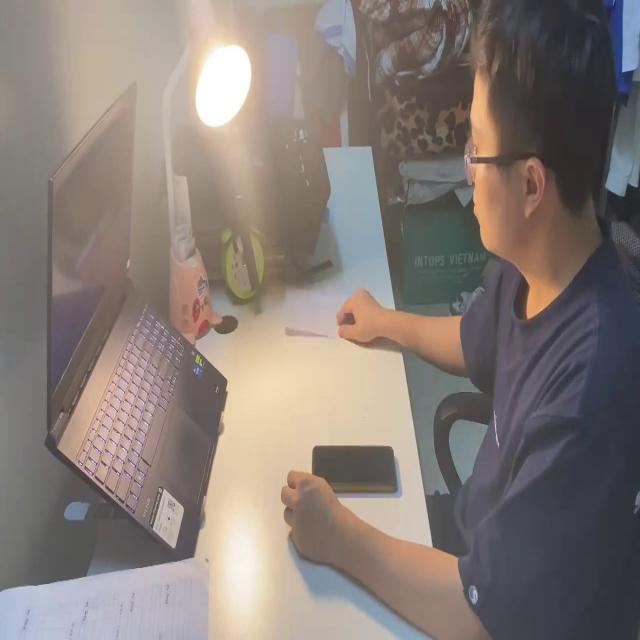book: (5, 557, 212, 640), (286, 280, 358, 344)
laptop: (37, 74, 229, 558)
phone: (312, 440, 398, 496)
student: (278, 1, 640, 640)
